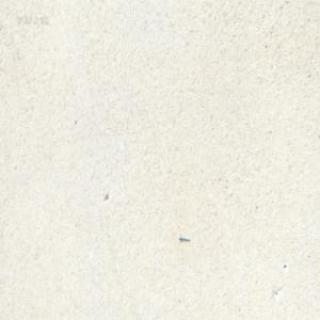Nailtrack_idkeyframe: (178, 233, 190, 242)
